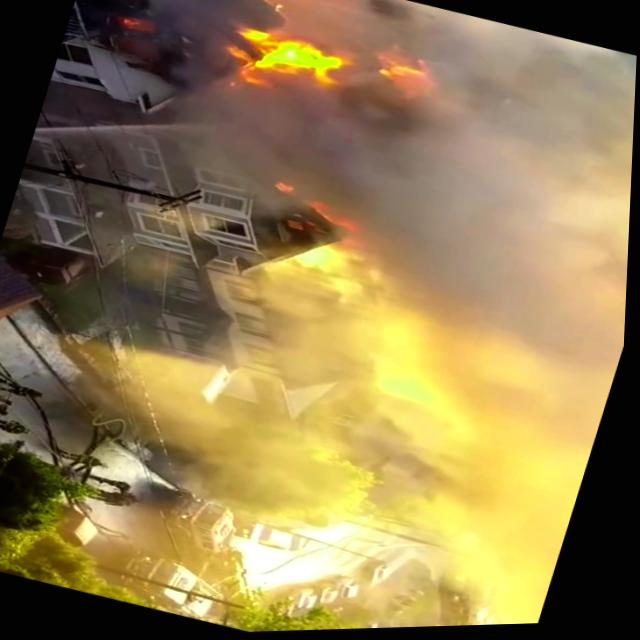fire: (225, 5, 406, 126)
smoke: (410, 117, 635, 388)
